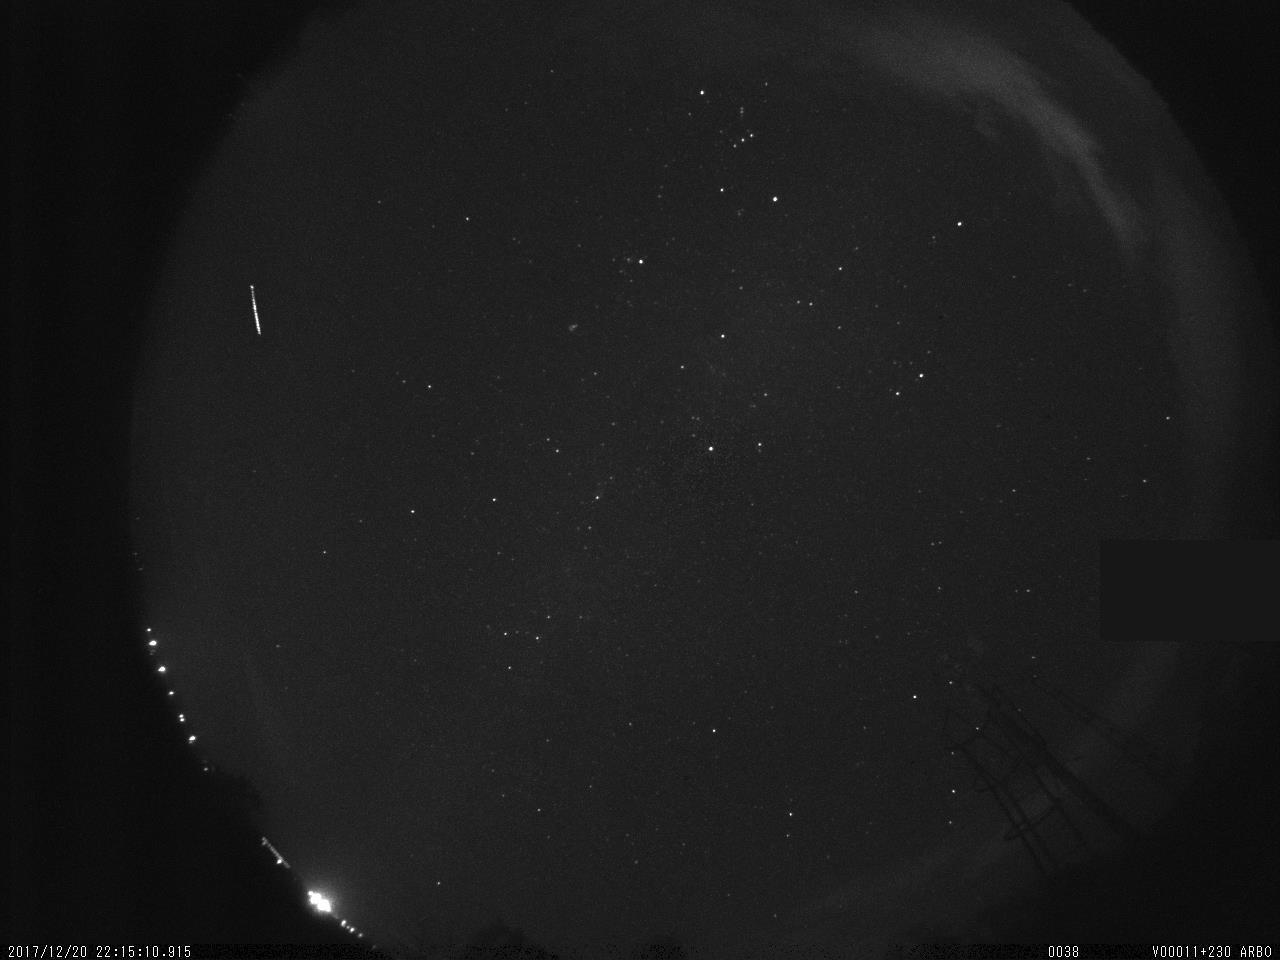meteor: (235, 276, 270, 347)
